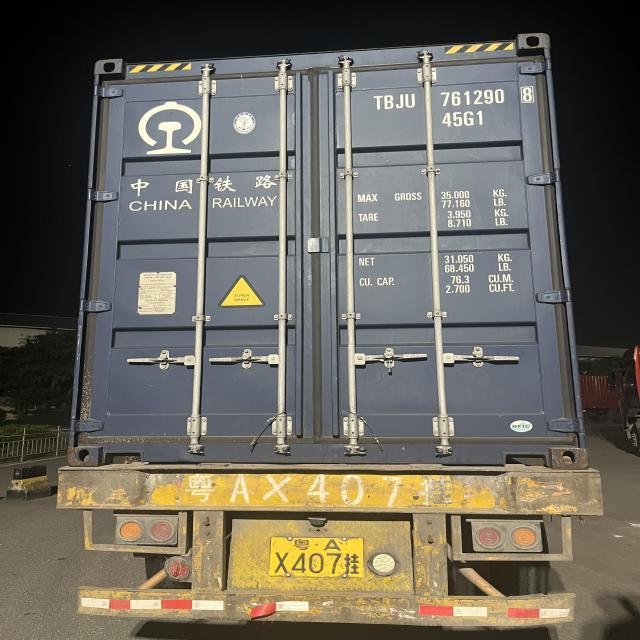ISO: (442, 111, 484, 129)
container_number: (379, 88, 534, 109)
